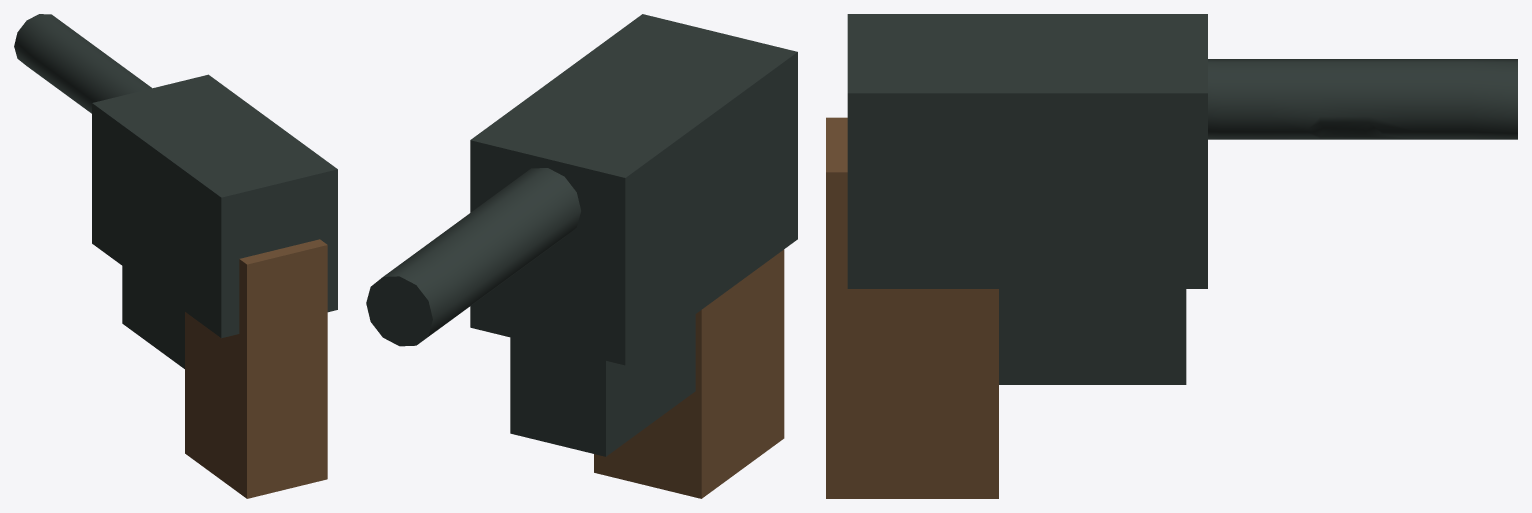
File: rusty_pistol.glb
3 views of the same model, side by side, from view 1: azimuth 30°, elevation 25°; view 2: azimuth 150°, elevation 25°; view 3: azimuth 270°, elevation 25° (orthographic). The views are drawn at different scales.
Visible parts, largest first — view 1: Receiver, Grip, Barrel, TriggerGuard; view 2: Receiver, Grip, Barrel, TriggerGuard; view 3: Receiver, Grip, Barrel, TriggerGuard.
Part boxes in pixels (x1,y1,x2,y2): Receiver: [92, 74, 337, 338]; Grip: [185, 239, 327, 498]; Barrel: [14, 14, 151, 113]; TriggerGuard: [122, 266, 184, 368]; Receiver: [470, 14, 797, 365]; Grip: [594, 249, 784, 498]; Barrel: [366, 168, 580, 346]; TriggerGuard: [510, 314, 695, 456]; Receiver: [847, 14, 1207, 288]; Grip: [826, 117, 998, 498]; Barrel: [1208, 59, 1517, 139]; TriggerGuard: [999, 289, 1186, 384].
Bounding box in the file's own units: 0.13 × 0.32 × 0.48.
